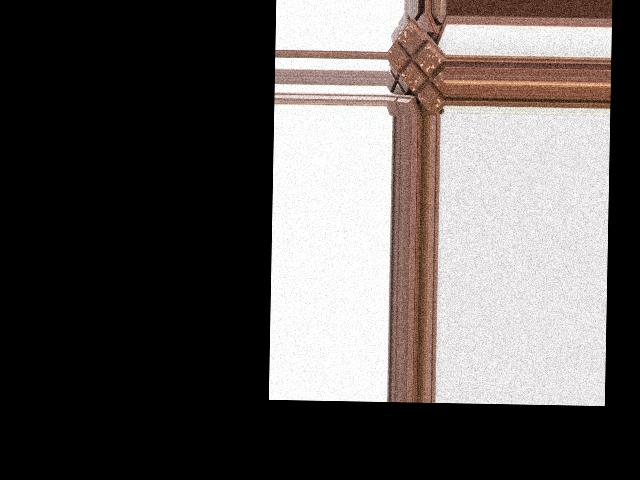chocolate: (387, 24, 447, 114)
